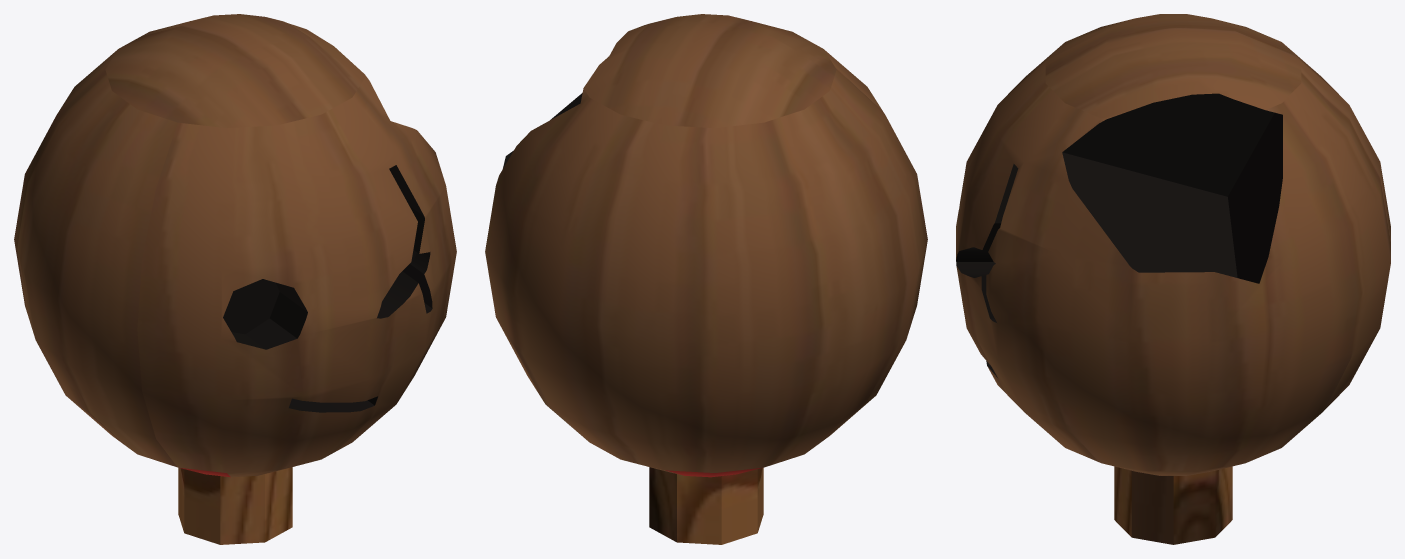
The model's file is Doll_Head_Cracked.glb.
The picture shows the model from 3 angles, left to right: view 1: azimuth 30°, elevation 25°; view 2: azimuth 150°, elevation 25°; view 3: azimuth 270°, elevation 25°; orthographic projection.
Parts seen in each view (by area): view 1: Doll_Head_Cracked; view 2: Doll_Head_Cracked; view 3: Doll_Head_Cracked.
Part boxes in pixels (<box>): Doll_Head_Cracked: <box>14,14,456,544</box>; Doll_Head_Cracked: <box>485,14,927,544</box>; Doll_Head_Cracked: <box>956,14,1390,544</box>.
Bounding box in the file's own units: 0.2354 × 0.2914 × 0.2354.
4 materials, 3 textured.
